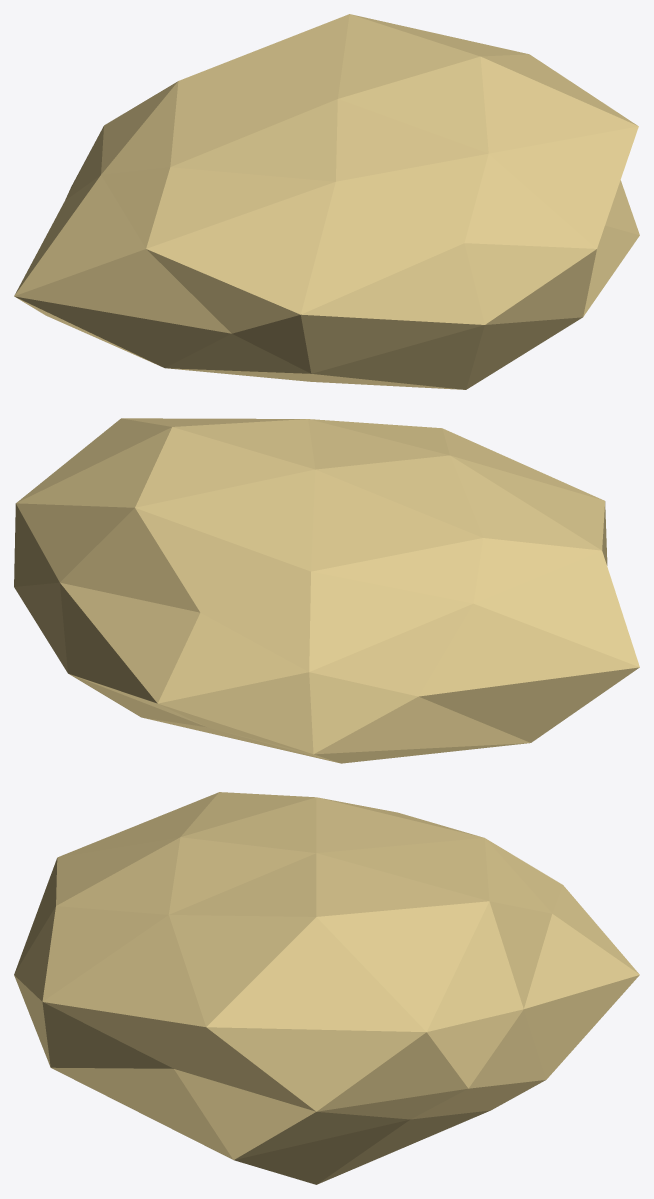
File: net_bundle.glb
3 views of the same model, one above another, from view 1: azimuth 30°, elevation 25°; view 2: azimuth 150°, elevation 25°; view 3: azimuth 270°, elevation 25° (orthographic). The views are drawn at different scales.
Parts seen in each view (by area): view 1: net_bundle; view 2: net_bundle; view 3: net_bundle.
Boxes of the visible parts, box(x1,y1,x2,y2) form: net_bundle: box(14, 14, 639, 389); net_bundle: box(14, 418, 639, 763); net_bundle: box(14, 792, 639, 1184).
Size of the model in its own units: 0.3492 by 0.139 by 0.3086.
